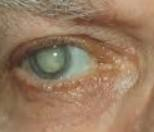eye: (32, 46, 70, 79)
